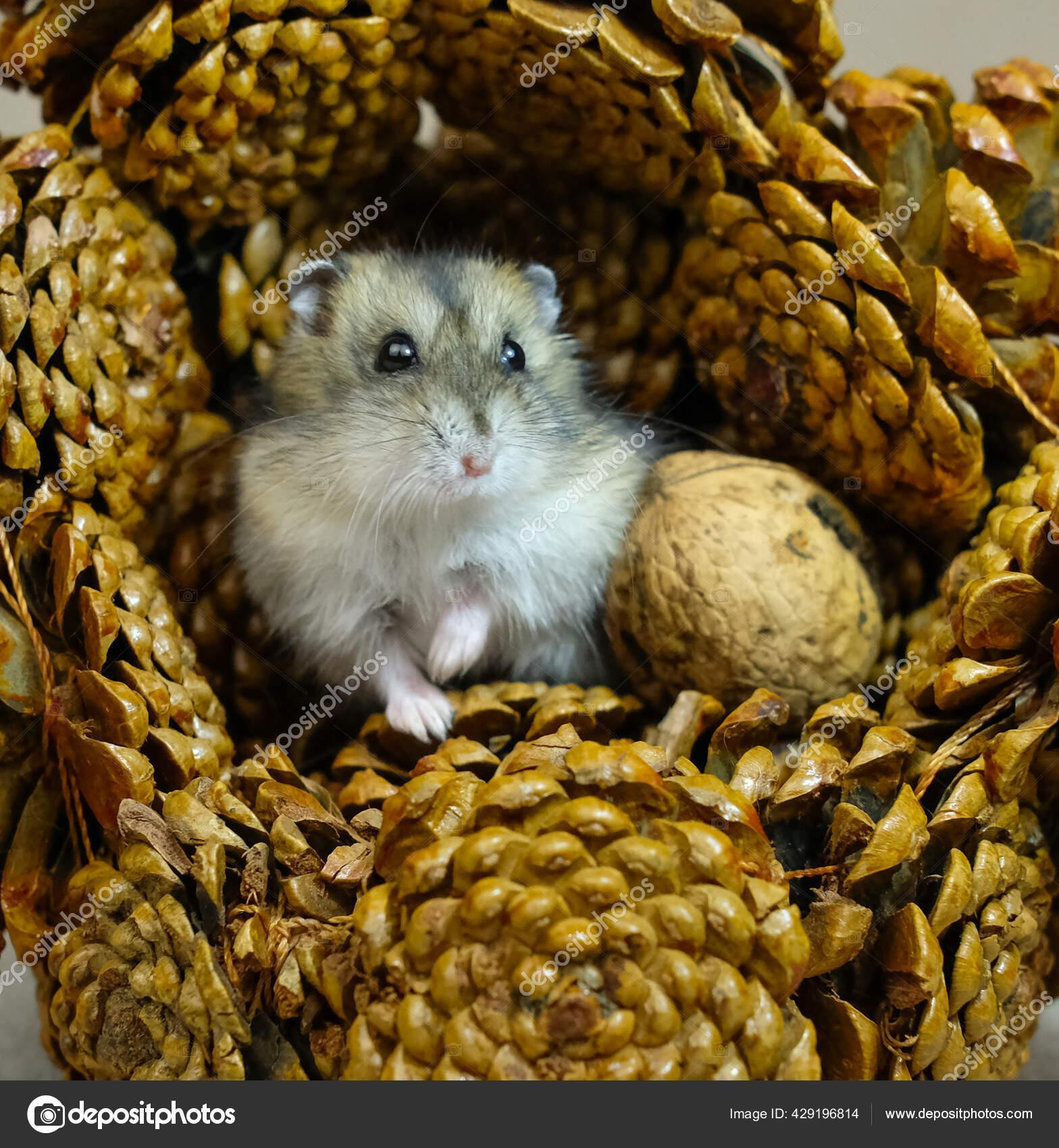rat: (234, 256, 652, 742)
